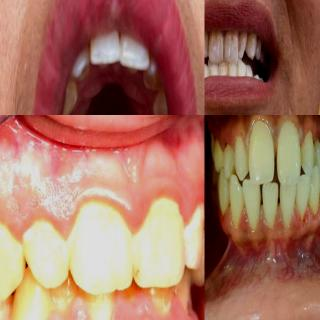Gum Swelling: (79, 177, 182, 237), (111, 292, 191, 320)
maligned: (222, 24, 240, 66), (206, 25, 224, 61), (238, 29, 250, 59), (236, 57, 247, 78), (228, 57, 238, 80), (207, 60, 218, 79), (219, 58, 229, 78), (204, 30, 210, 61)
plaque: (128, 197, 183, 285), (24, 213, 70, 283), (0, 217, 22, 289), (184, 205, 204, 258), (51, 285, 75, 320), (149, 287, 174, 320), (91, 293, 116, 320)
stains: (61, 84, 79, 115), (144, 69, 164, 89), (150, 91, 166, 115), (84, 37, 94, 61), (117, 31, 125, 60), (206, 36, 212, 58), (236, 36, 242, 54), (245, 36, 250, 50)
